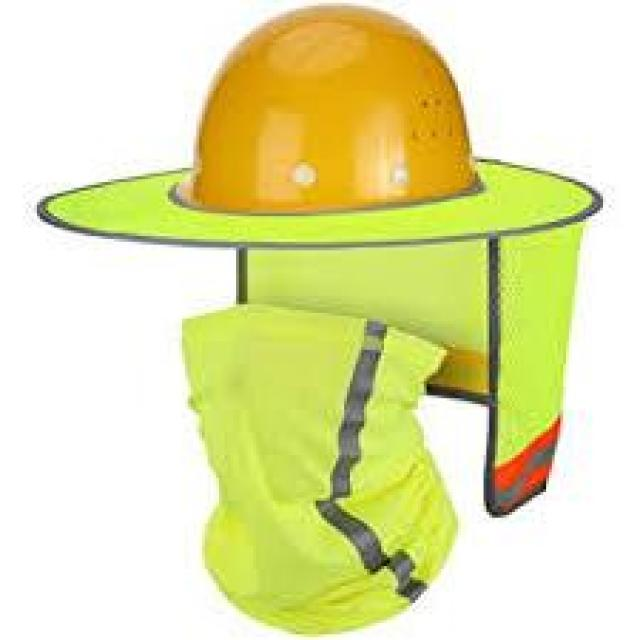Reflective-Jacket: (23, 14, 640, 640)
Safety-Helmet: (51, 6, 543, 233)
